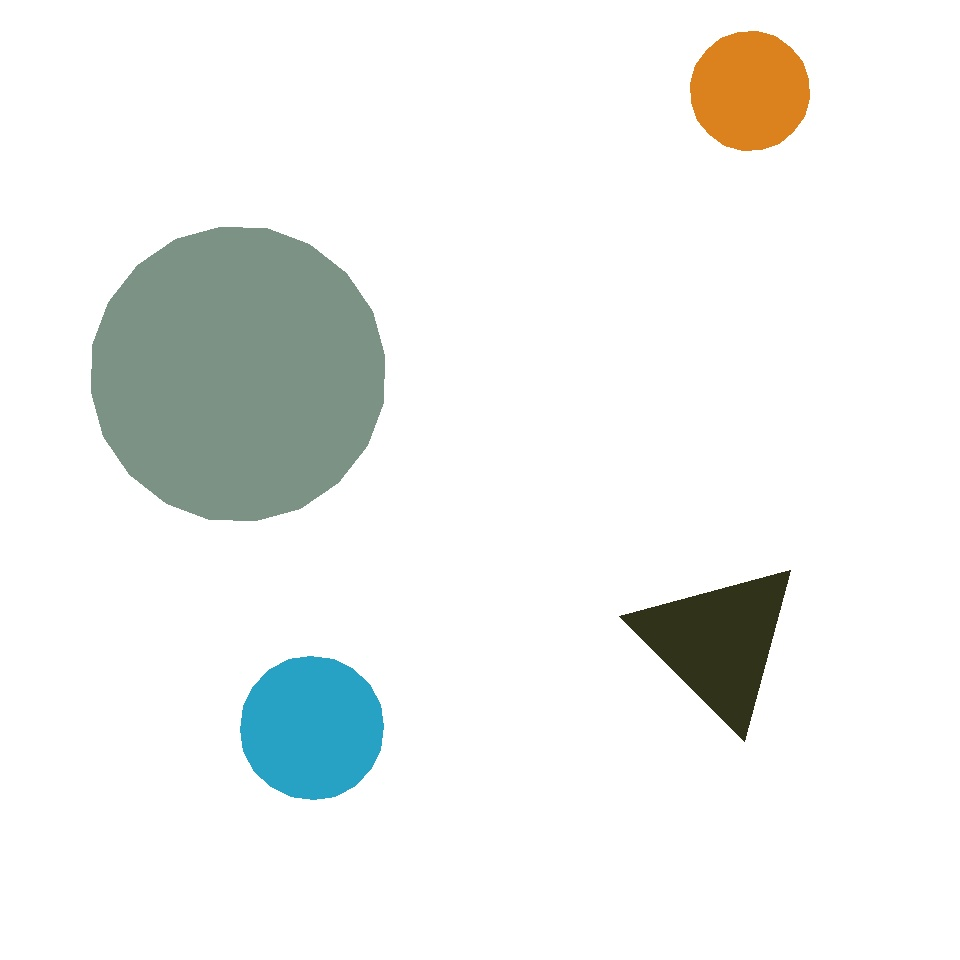circle: (609, 347, 837, 562), (632, 558, 804, 728)
square: (494, 44, 714, 264)
triangle: (92, 228, 384, 520), (241, 656, 384, 800), (690, 31, 810, 150)
